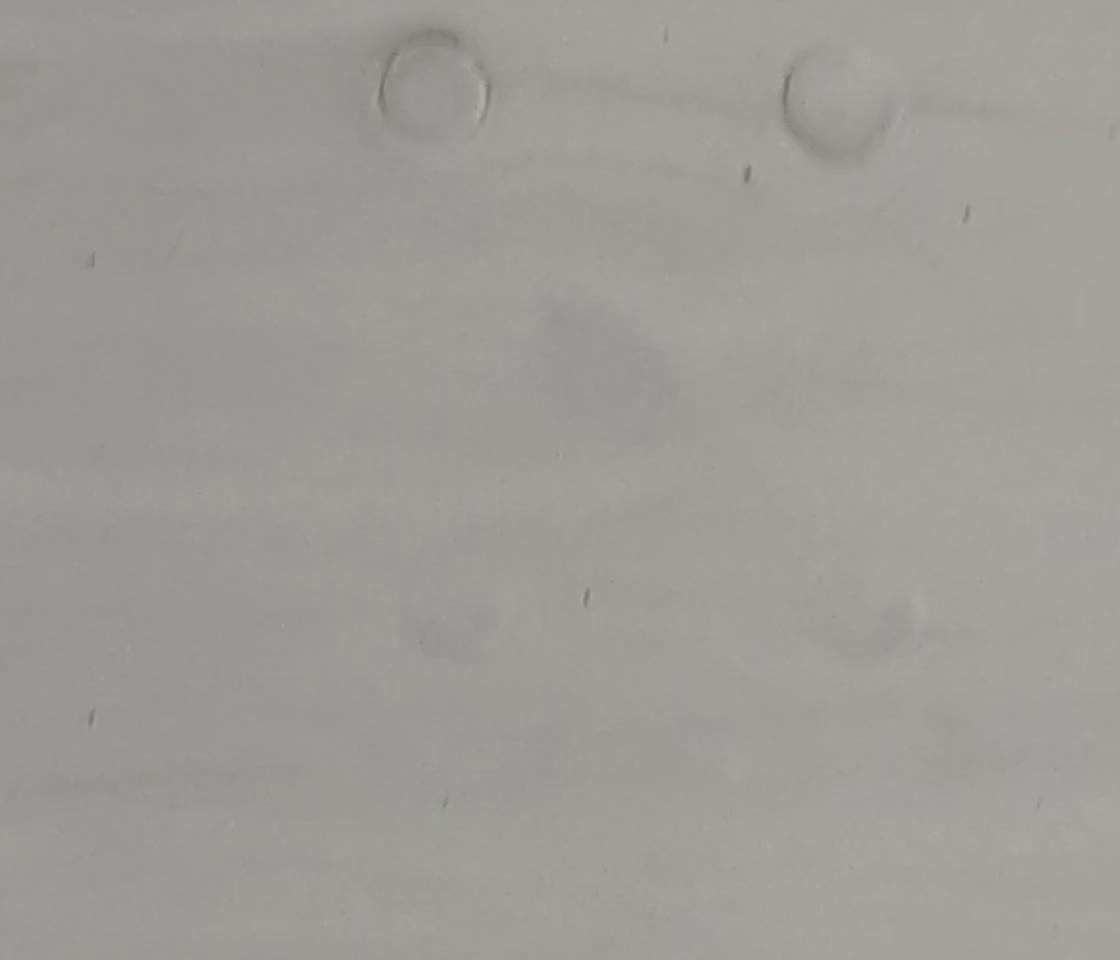scratch: (731, 158, 761, 187), (574, 583, 596, 609), (955, 202, 975, 225)
